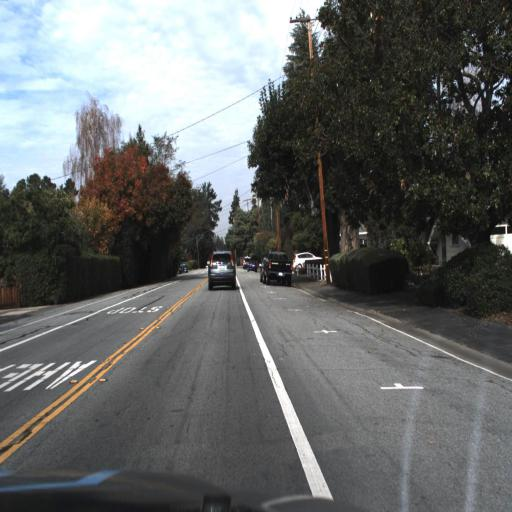car: (202, 242, 244, 298), (264, 246, 293, 291), (288, 249, 326, 273), (174, 256, 190, 278)
